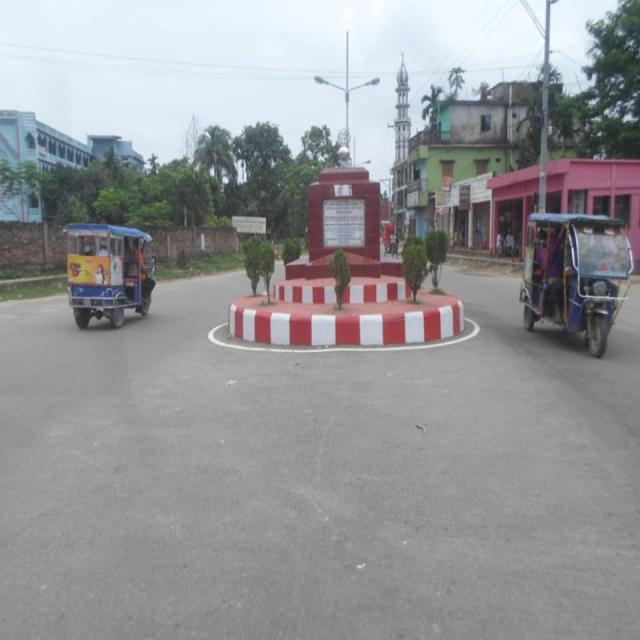Easybike: (519, 205, 640, 361), (64, 214, 165, 342)
Road-divider: (218, 148, 462, 368)
